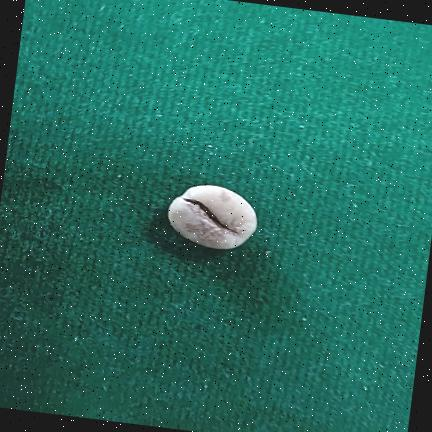immature: (167, 185, 257, 249)
